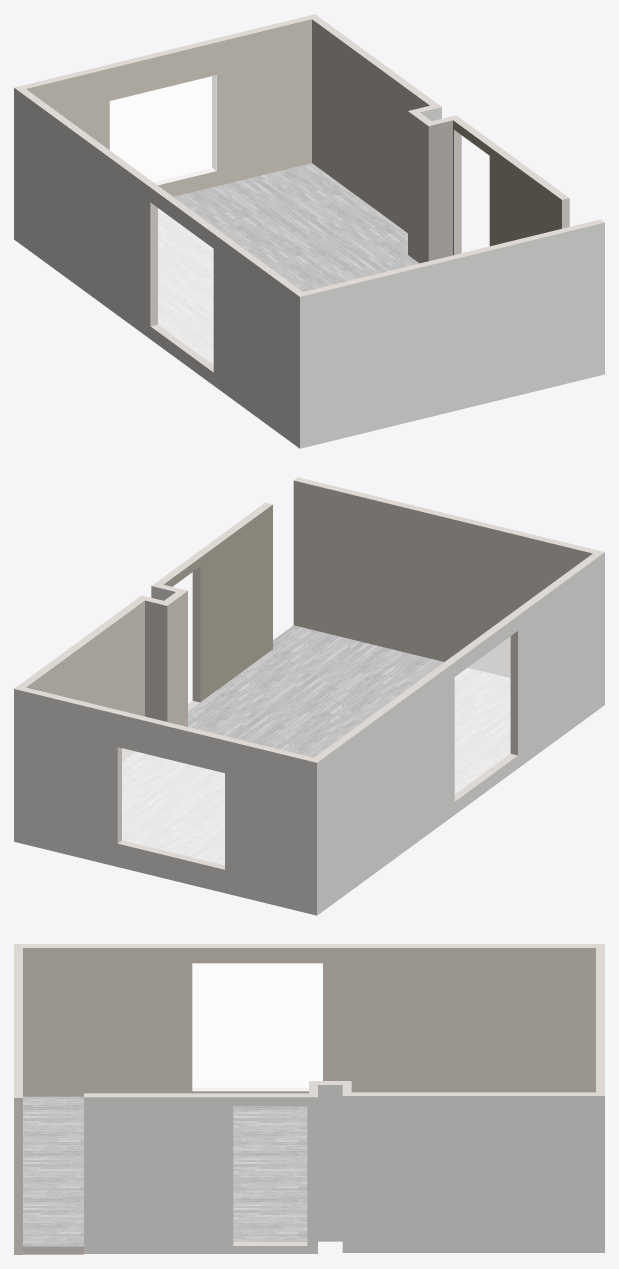
The picture shows the model from 3 angles, top to bottom: view 1: azimuth 30°, elevation 25°; view 2: azimuth 150°, elevation 25°; view 3: azimuth 270°, elevation 25°; orthographic projection. The views are drawn at different scales.
Parts seen in each view (by area): view 1: wall_2 (×2), wall_0 (×3), wall_4 (×3), floor_Other_0, window_1 (×2), wall_1 (×2), window_0 (×2), wall_7 (×3), wall_6, wall_3; view 2: wall_0 (×3), wall_4 (×3), wall_2 (×2), floor_Other_0, window_1 (×2), window_0 (×2), wall_7 (×3), wall_1 (×2), wall_5, wall_3; view 3: wall_0 (×2), wall_1 (×2), window_0 (×2), wall_7 (×2), floor_Other_0 (×2), wall_3, wall_2 (×2), wall_4.
Boxes of the visible parts, x1,y1,x2,y2 form: wall_2 (×2): [300, 219, 604, 448]; wall_0 (×3): [14, 87, 302, 448]; wall_4 (×3): [15, 14, 314, 196]; floor_Other_0: [158, 163, 419, 364]; window_1 (×2): [110, 75, 216, 184]; wall_1 (×2): [312, 14, 441, 232]; window_0 (×2): [158, 208, 213, 364]; wall_7 (×3): [453, 115, 569, 255]; wall_6: [428, 120, 452, 260]; wall_3: [408, 111, 428, 263]; wall_0 (×3): [314, 552, 604, 915]; wall_4 (×3): [14, 687, 316, 915]; wall_2 (×2): [293, 477, 604, 677]; floor_Other_0: [122, 625, 509, 864]; window_1 (×2): [122, 748, 224, 864]; window_0 (×2): [455, 637, 510, 793]; wall_7 (×3): [152, 502, 272, 710]; wall_1 (×2): [14, 595, 144, 761]; wall_5: [145, 600, 167, 721]; wall_3: [167, 591, 187, 726]; wall_0 (×2): [14, 944, 604, 1096]; wall_1 (×2): [342, 1092, 604, 1252]; window_0 (×2): [192, 963, 322, 1090]; wall_7 (×2): [84, 1093, 317, 1253]; floor_Other_0 (×2): [23, 1096, 307, 1254]; wall_3: [318, 1085, 342, 1241]; wall_2 (×2): [14, 944, 22, 1254]; wall_4: [596, 944, 604, 1095].
Size of the model in its own units: 4.02 by 1.91 by 6.53.
Materials: 20 (1 with a texture image).
